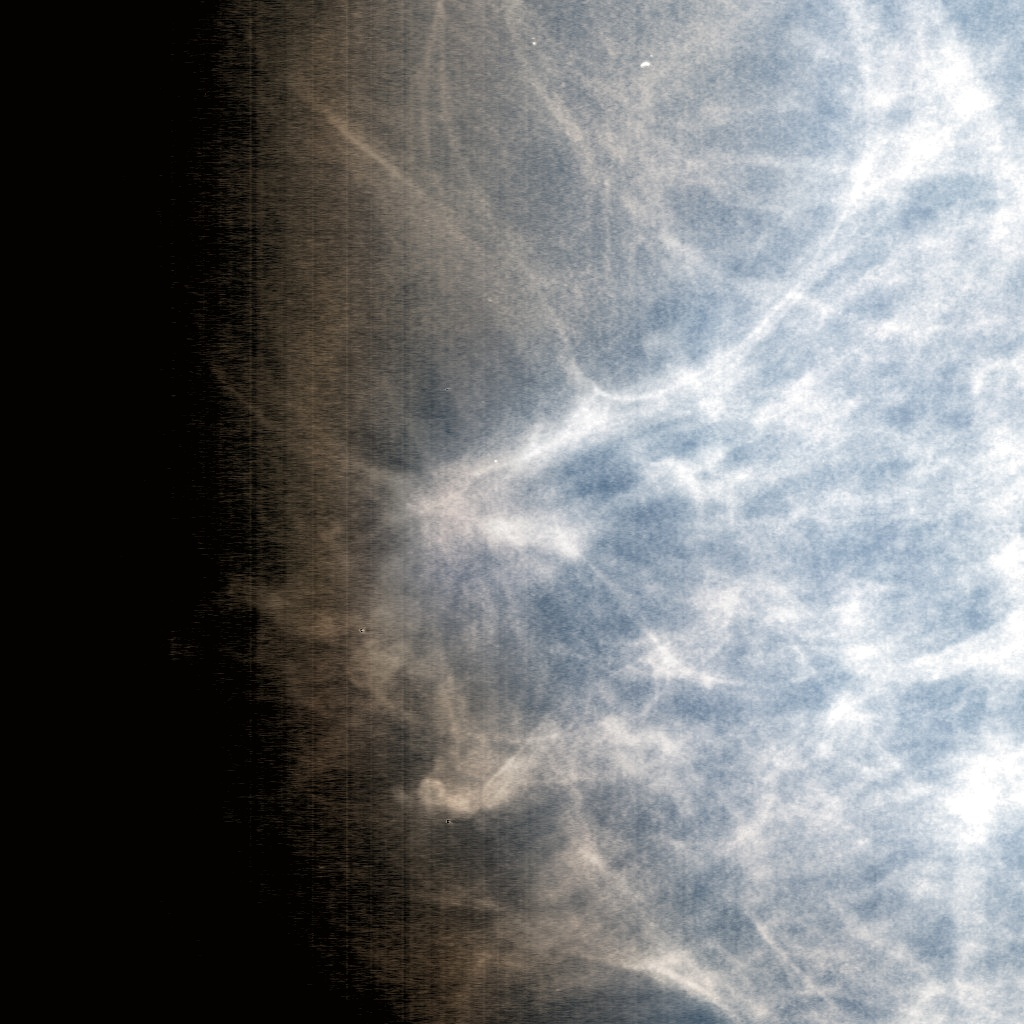tumor: (383, 383, 641, 641)
